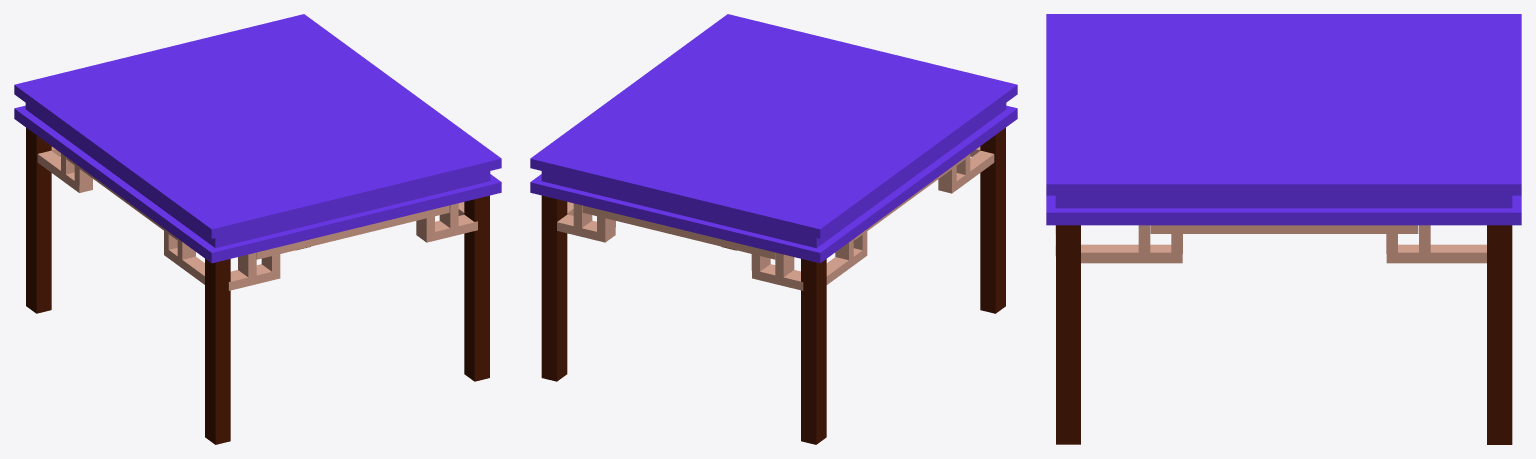
3 views of the same model, side by side, from view 1: azimuth 30°, elevation 25°; view 2: azimuth 150°, elevation 25°; view 3: azimuth 270°, elevation 25° (orthographic). The views are drawn at different scales.
Visible parts, largest first — view 1: Box001, Box011, Box008, Box010, Box007, Box006, Box026, Box029, Box022, Box032, Box025; view 2: Box001, Box011, Box009, Box006, Box007, Box008, Box012, Box025, Box015, Box018, Box022; view 3: Box001, Box011, Box007, Box009, Box010, Box033, Box039, Box036.
Boxes of the visible parts, x1=… form: Box001: x1=14, y1=14, x2=501, y2=238; Box011: x1=14, y1=105, x2=501, y2=263; Box008: x1=205, y1=259, x2=230, y2=444; Box010: x1=464, y1=195, x2=489, y2=381; Box007: x1=25, y1=103, x2=490, y2=248; Box006: x1=26, y1=127, x2=51, y2=313; Box026: x1=256, y1=205, x2=449, y2=259; Box029: x1=416, y1=214, x2=477, y2=242; Box022: x1=37, y1=150, x2=92, y2=192; Box032: x1=228, y1=264, x2=280, y2=290; Box025: x1=164, y1=246, x2=204, y2=284; Box001: x1=530, y1=14, x2=1017, y2=238; Box011: x1=530, y1=105, x2=1017, y2=263; Box009: x1=541, y1=195, x2=567, y2=381; Box006: x1=801, y1=259, x2=826, y2=444; Box007: x1=541, y1=103, x2=1006, y2=248; Box008: x1=980, y1=127, x2=1005, y2=313; Box012: x1=582, y1=205, x2=775, y2=259; Box025: x1=938, y1=150, x2=994, y2=193; Box015: x1=557, y1=214, x2=615, y2=242; Box018: x1=752, y1=264, x2=803, y2=290; Box022: x1=826, y1=248, x2=867, y2=284; Box001: x1=1046, y1=14, x2=1521, y2=195; Box011: x1=1046, y1=195, x2=1521, y2=225; Box007: x1=1055, y1=195, x2=1512, y2=208; Box009: x1=1487, y1=225, x2=1512, y2=444; Box010: x1=1056, y1=225, x2=1080, y2=444; Box033: x1=1150, y1=225, x2=1418, y2=233; Box039: x1=1081, y1=244, x2=1182, y2=263; Box036: x1=1386, y1=244, x2=1486, y2=263.
Bounding box in the file's own units: 78.69 × 57.15 × 92.86.
